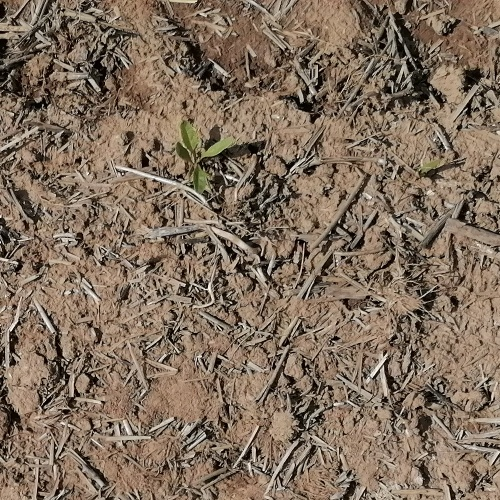beet: (176, 119, 233, 194), (417, 157, 444, 177)
